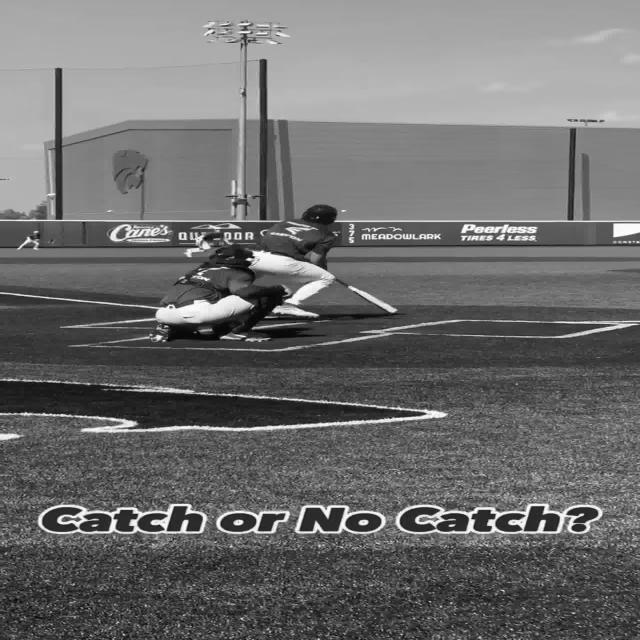baseball: (337, 209, 348, 212)
bat: (334, 278, 404, 312)
shoe: (269, 302, 319, 319), (218, 331, 272, 342), (148, 323, 172, 342)
